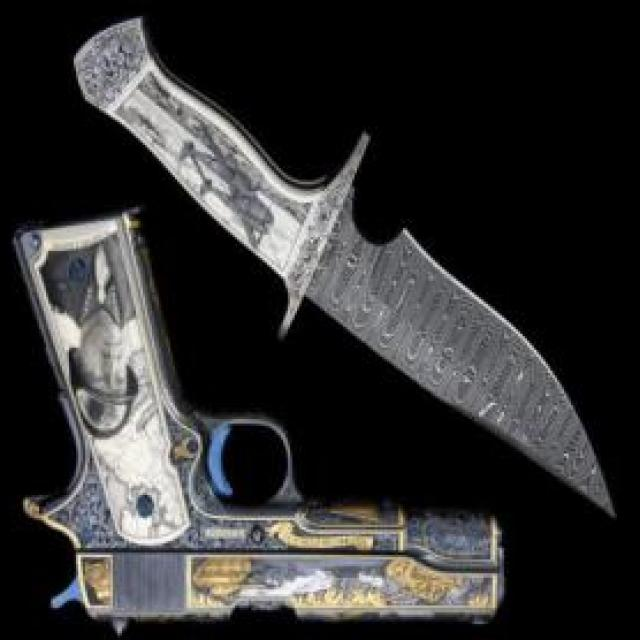pistol: (4, 212, 508, 633)
